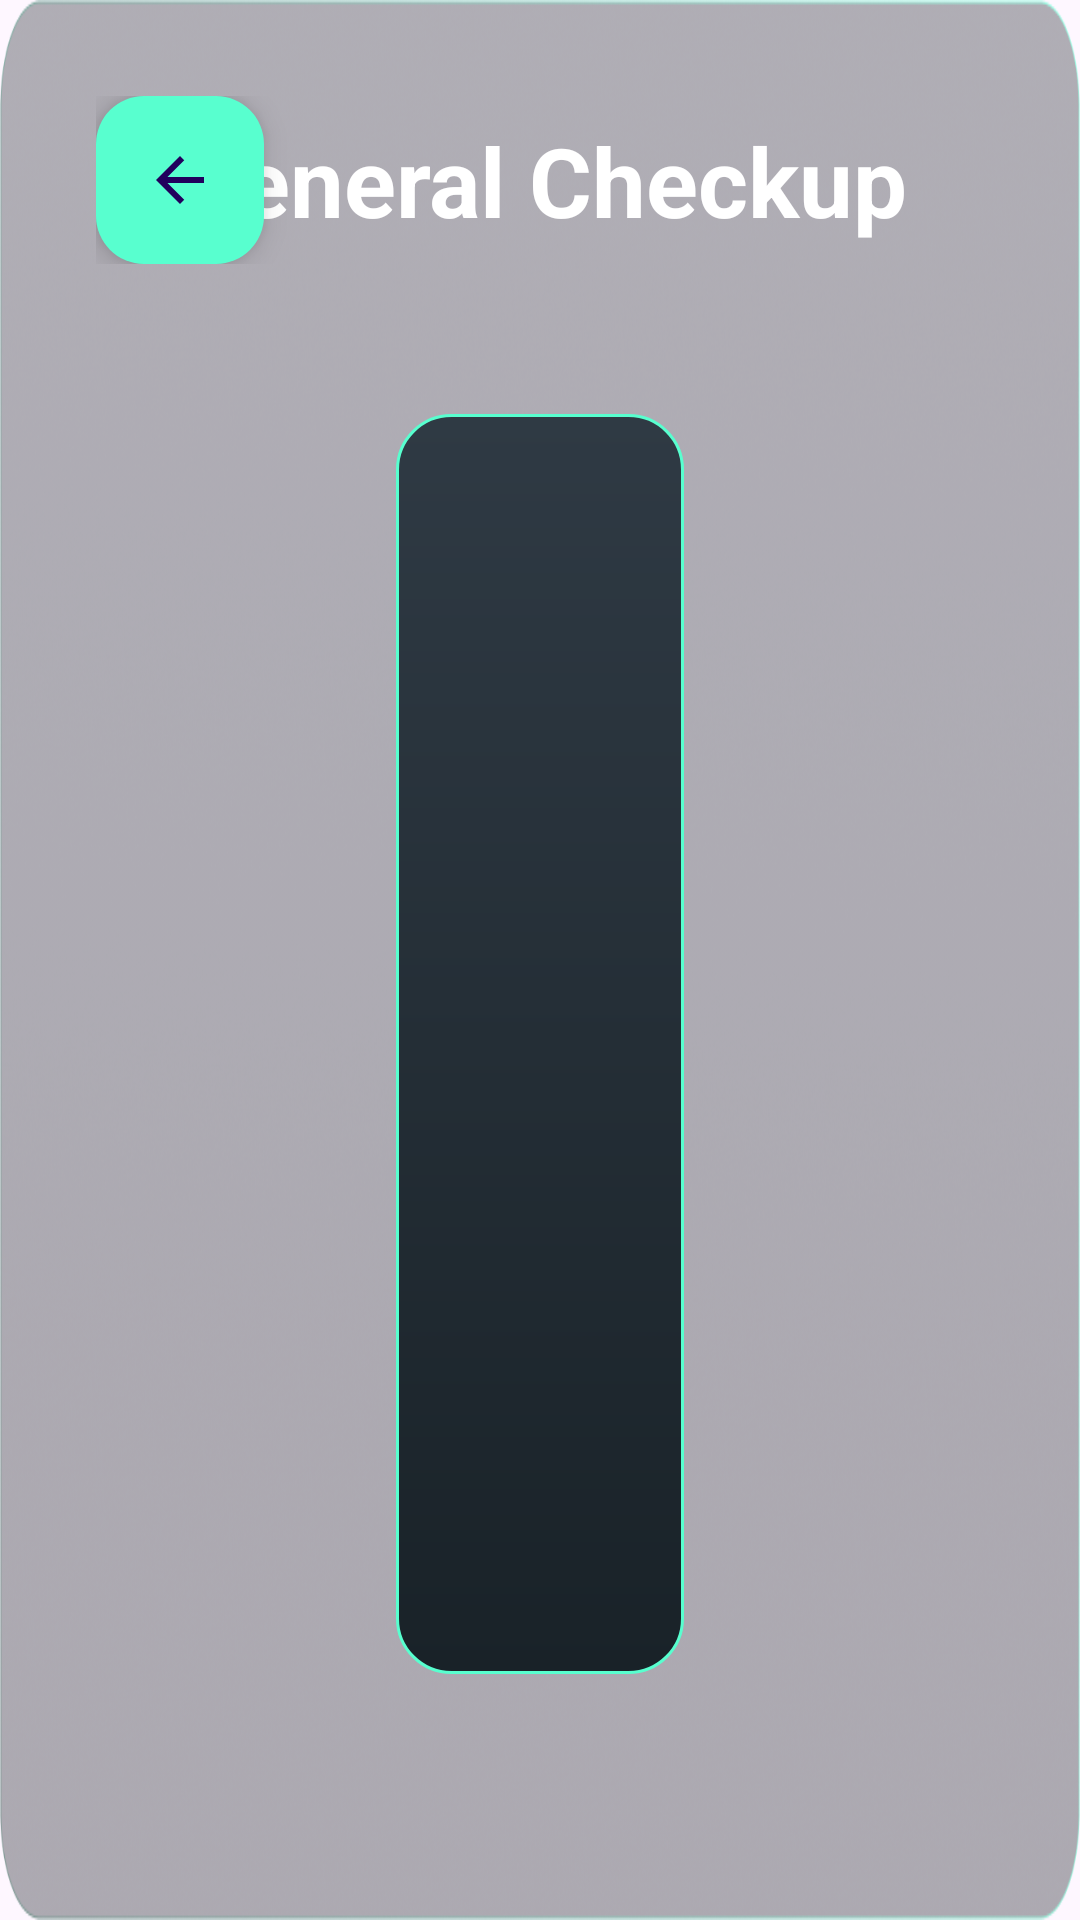

Where to tap for icons on this 1080x1920 app screen, as [x,y]:
Back Button: [180,180]
